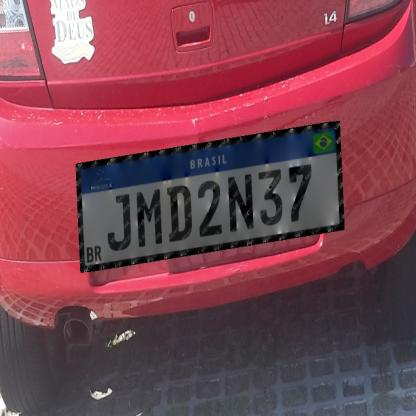PlacaM: (75, 121, 344, 273)
